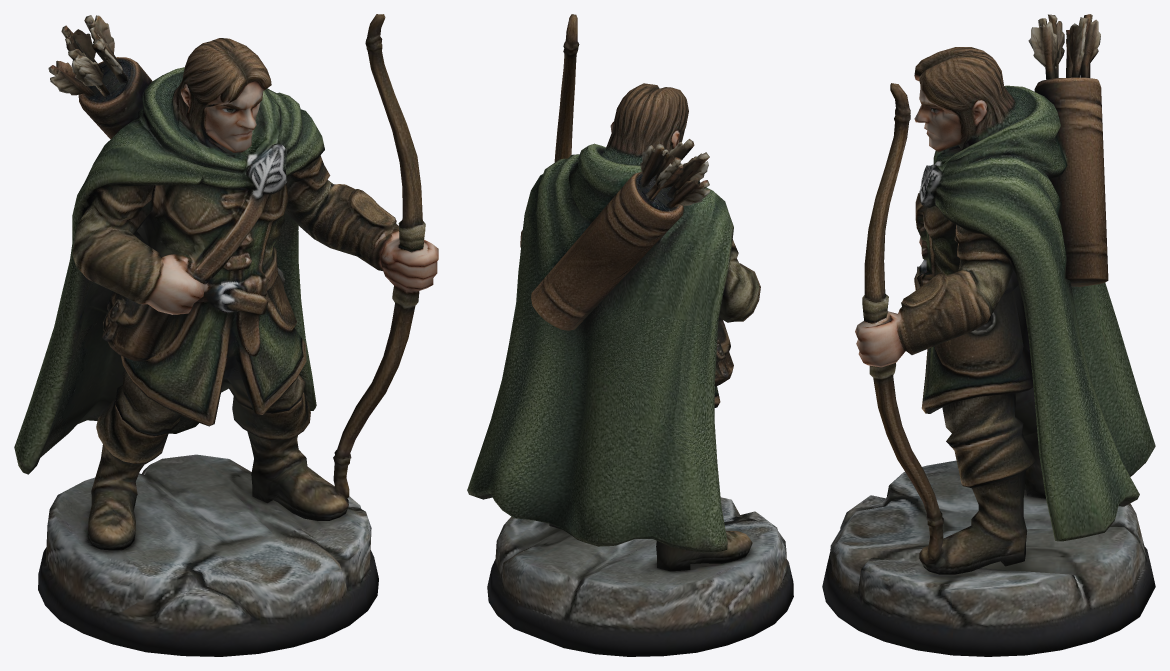
File: silvershade.glb
3 renders of one model, left to right at view 1: azimuth 30°, elevation 25°; view 2: azimuth 150°, elevation 25°; view 3: azimuth 270°, elevation 25°, orthographic. The views are drawn at different scales.
Parts seen in each view (by area): view 1: tripo_node_e5204292-7df4-4ed4-bcd7-a01c550a4adb; view 2: tripo_node_e5204292-7df4-4ed4-bcd7-a01c550a4adb; view 3: tripo_node_e5204292-7df4-4ed4-bcd7-a01c550a4adb.
Part boxes in pixels (<box>): tripo_node_e5204292-7df4-4ed4-bcd7-a01c550a4adb: <box>14,14,438,656</box>; tripo_node_e5204292-7df4-4ed4-bcd7-a01c550a4adb: <box>467,14,793,656</box>; tripo_node_e5204292-7df4-4ed4-bcd7-a01c550a4adb: <box>822,14,1155,656</box>.
Size of the model in its own units: 0.5801 by 0.998 by 0.5371.
Materials: 1 (1 with a texture image).
